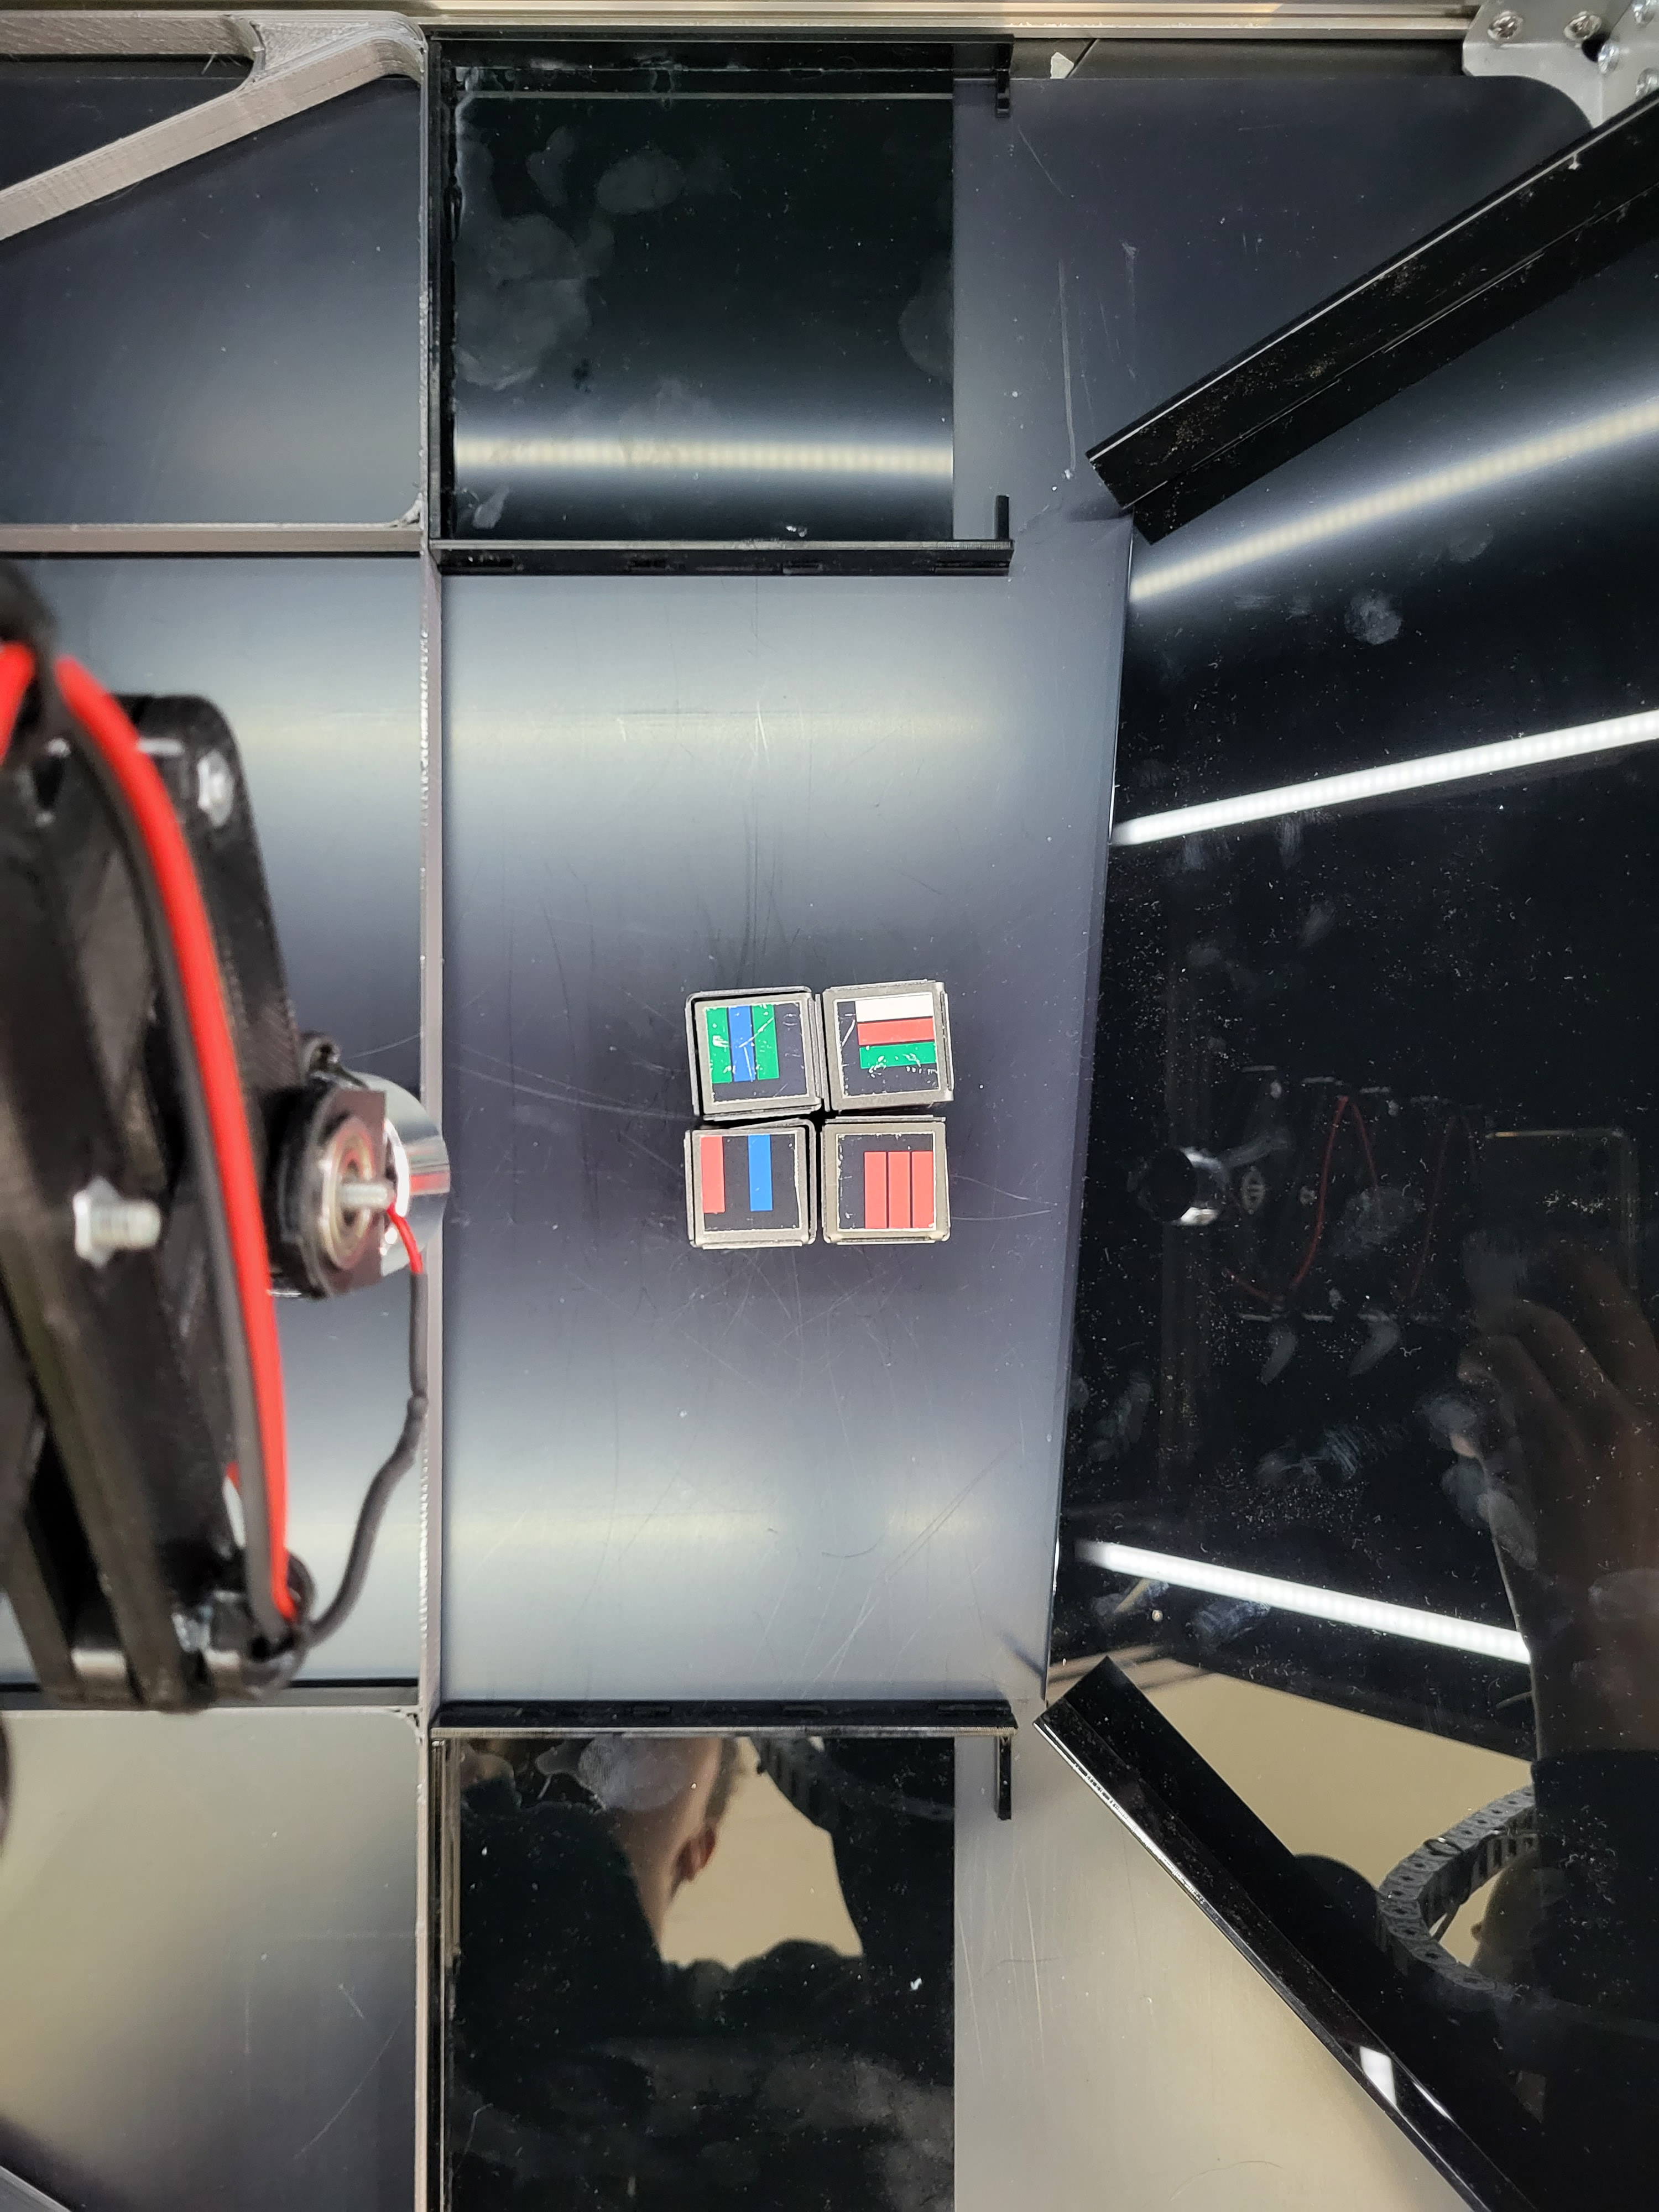Cube: (798, 1097, 972, 1271), (802, 958, 969, 1123), (669, 1101, 824, 1271), (664, 972, 824, 1134)
